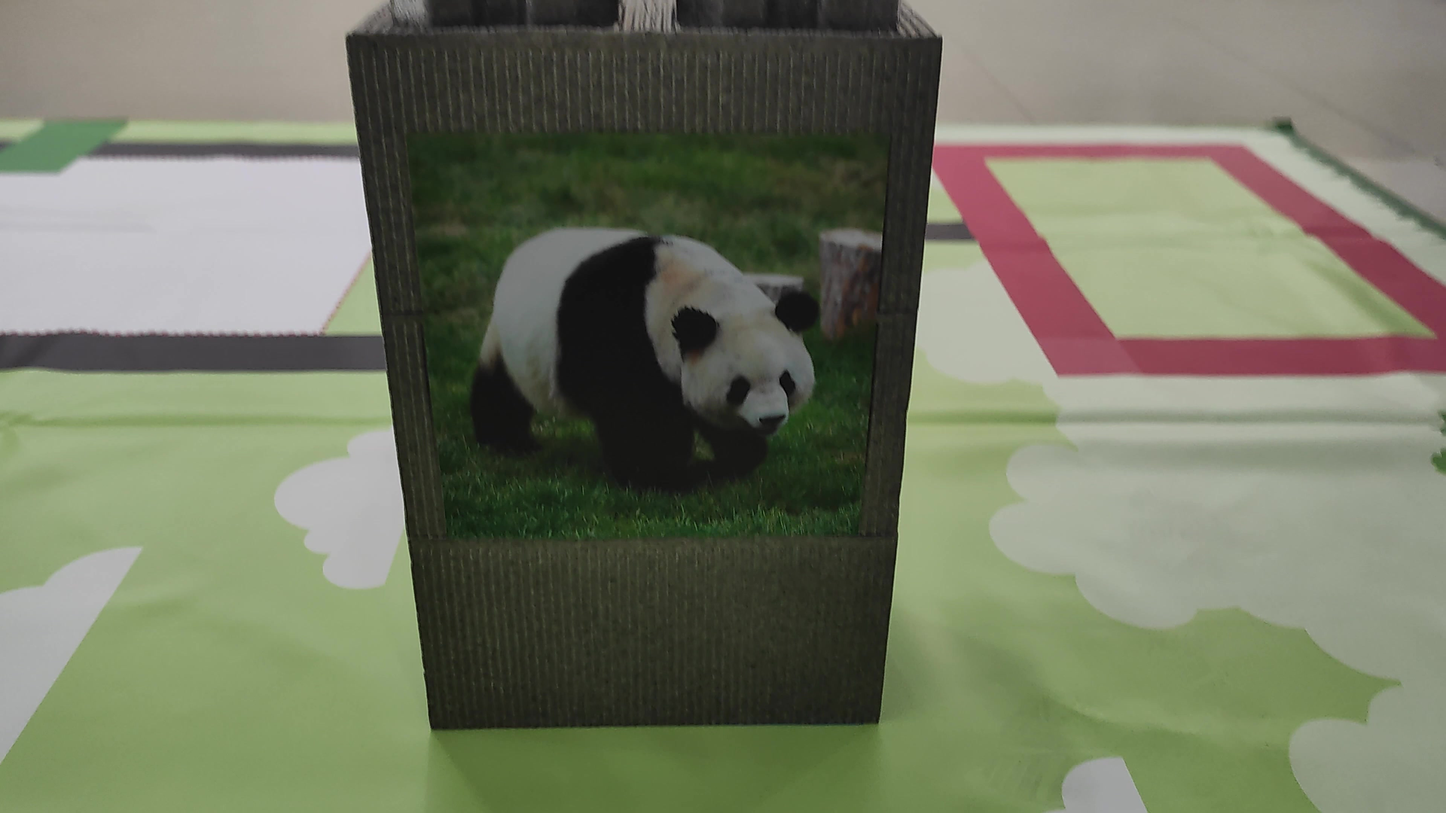panda: (458, 204, 833, 532)
